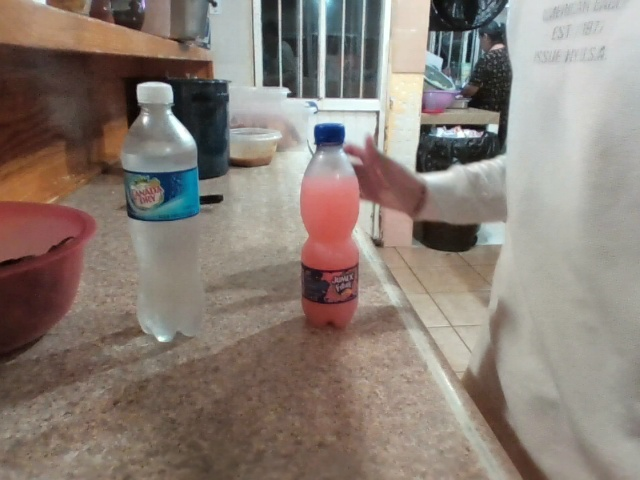botella: (275, 94, 399, 385), (105, 75, 217, 390)
